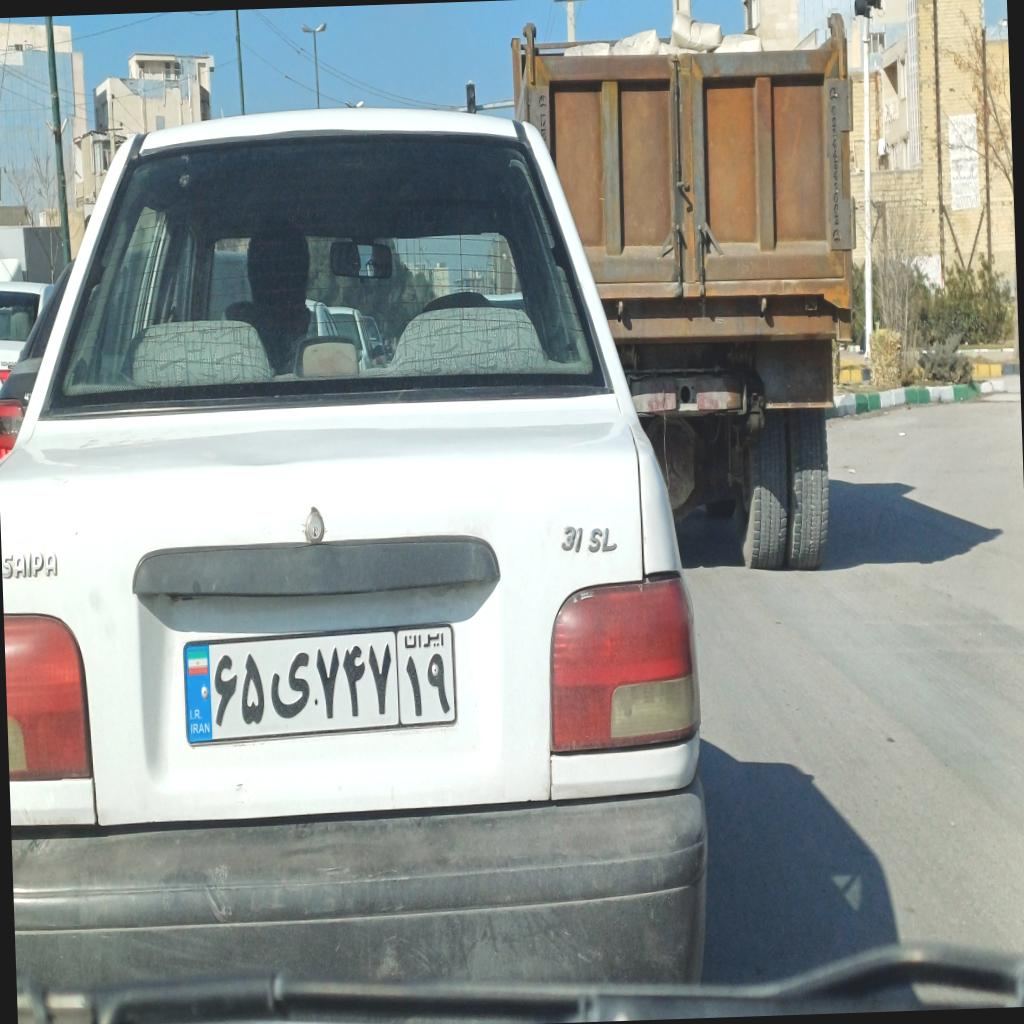Plates: (183, 623, 458, 745)
